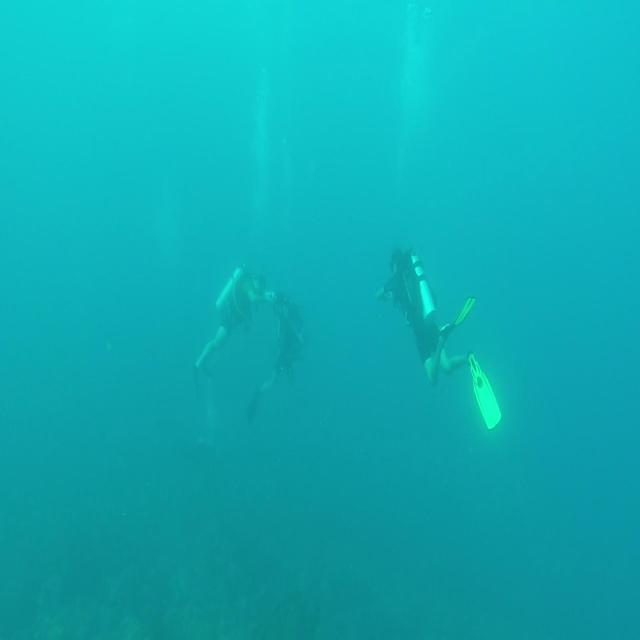human: (375, 244, 476, 386), (193, 262, 270, 389), (260, 270, 310, 394)
